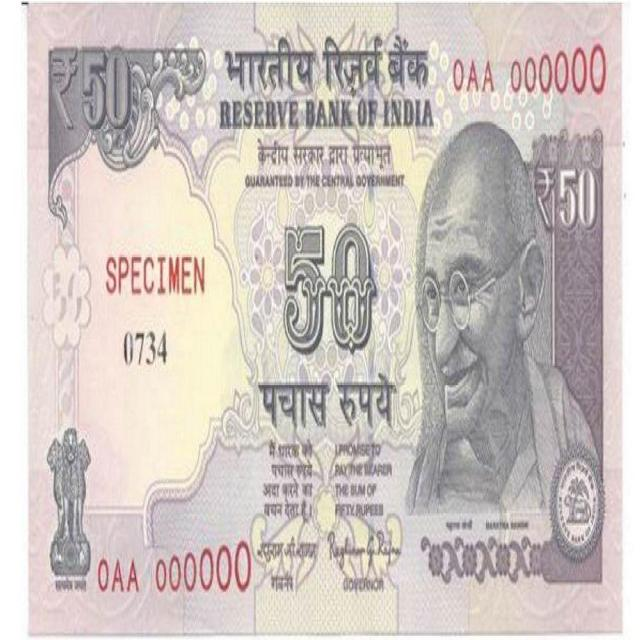50IndianRupees: (27, 9, 621, 640)
